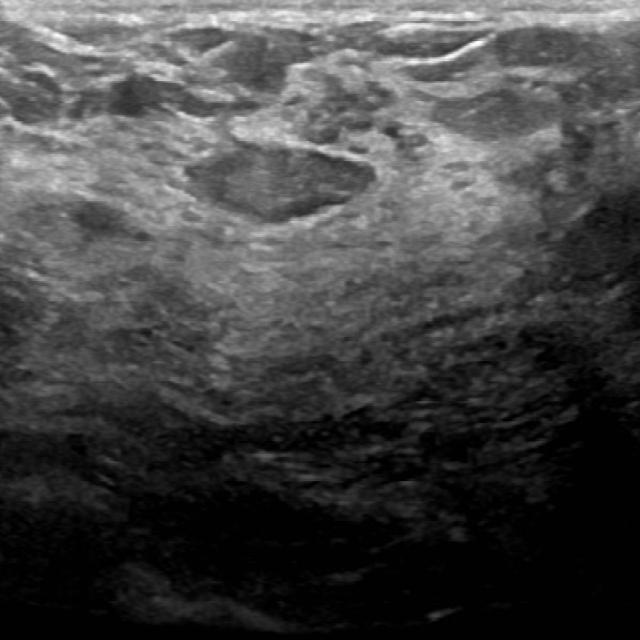Benign: (208, 136, 363, 224)
